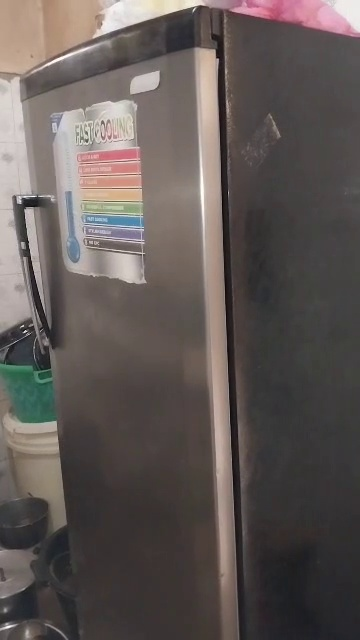refrigerator: (21, 17, 360, 636)
